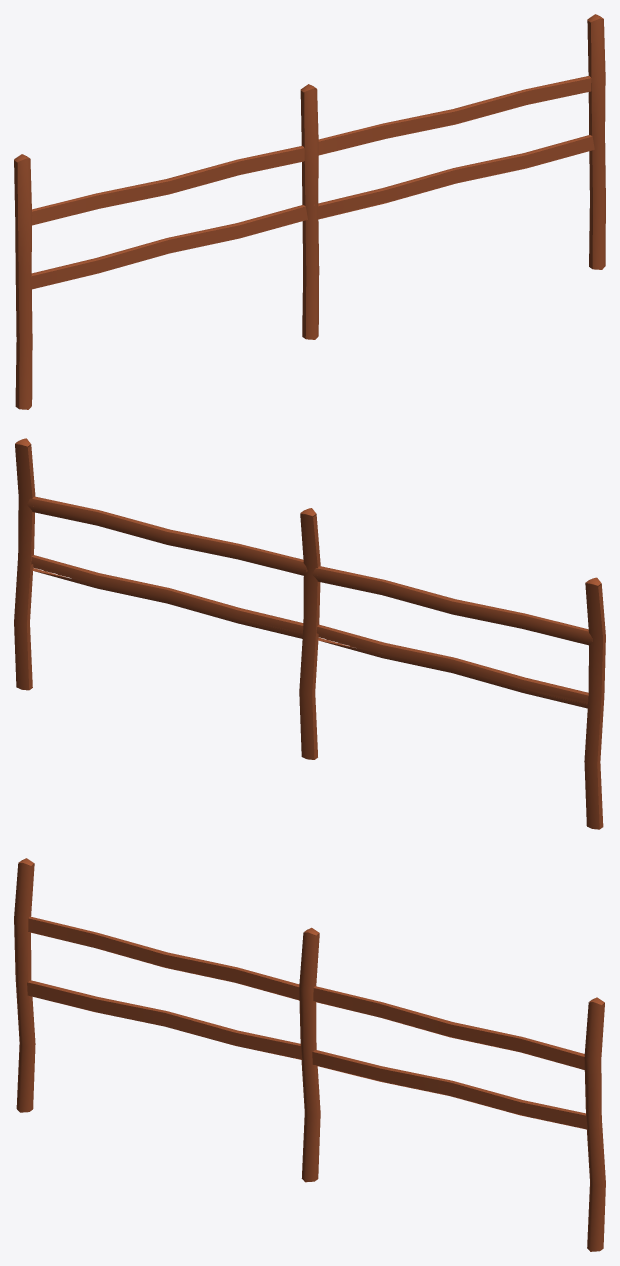
The model's file is Fence.FBX.
The picture shows the model from 3 angles, top to bottom: view 1: azimuth 30°, elevation 25°; view 2: azimuth 150°, elevation 25°; view 3: azimuth 330°, elevation 25°; orthographic projection.
Parts seen in each view (by area): view 1: Box025; view 2: Box025; view 3: Box025.
Part boxes in pixels (x1=…): Box025: x1=14, y1=14, x2=605, y2=409; Box025: x1=14, y1=438, x2=605, y2=829; Box025: x1=14, y1=858, x2=605, y2=1251.
Size of the model in its own units: 157 by 63.68 by 4.45.
Materials: 1 (1 with a texture image).
